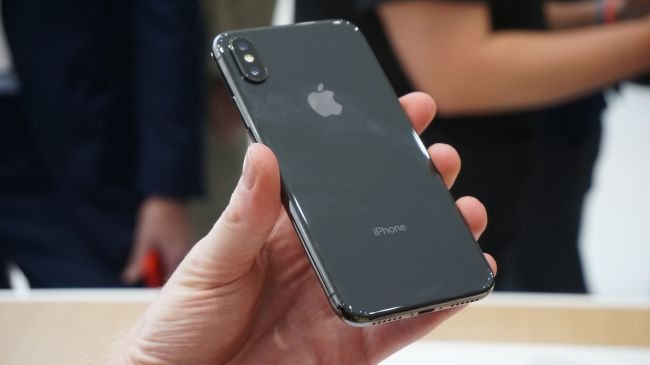apple: (300, 73, 357, 142)
